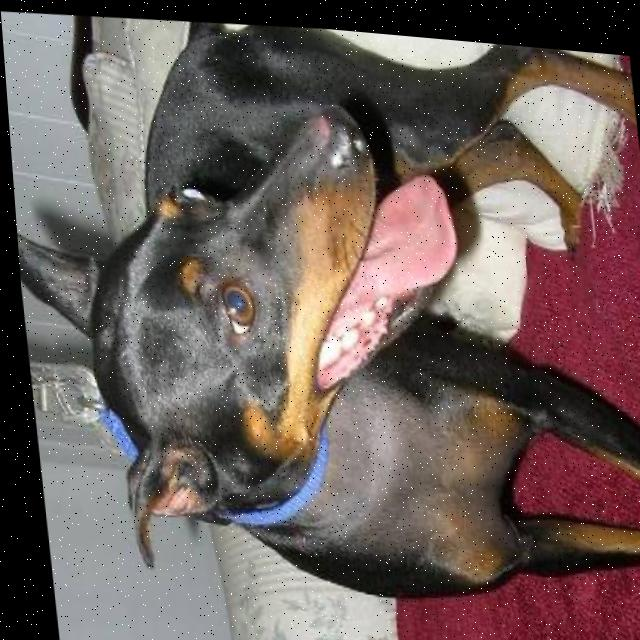dogs: (0, 0, 640, 612)
